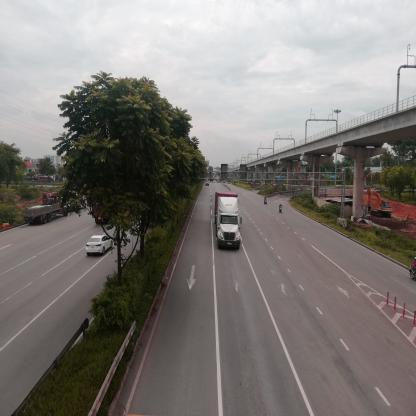car: (86, 234, 115, 258)
container: (215, 193, 243, 251)
motorbike: (411, 266, 416, 282), (280, 206, 284, 213), (265, 199, 268, 206)
truck: (26, 204, 67, 227)
